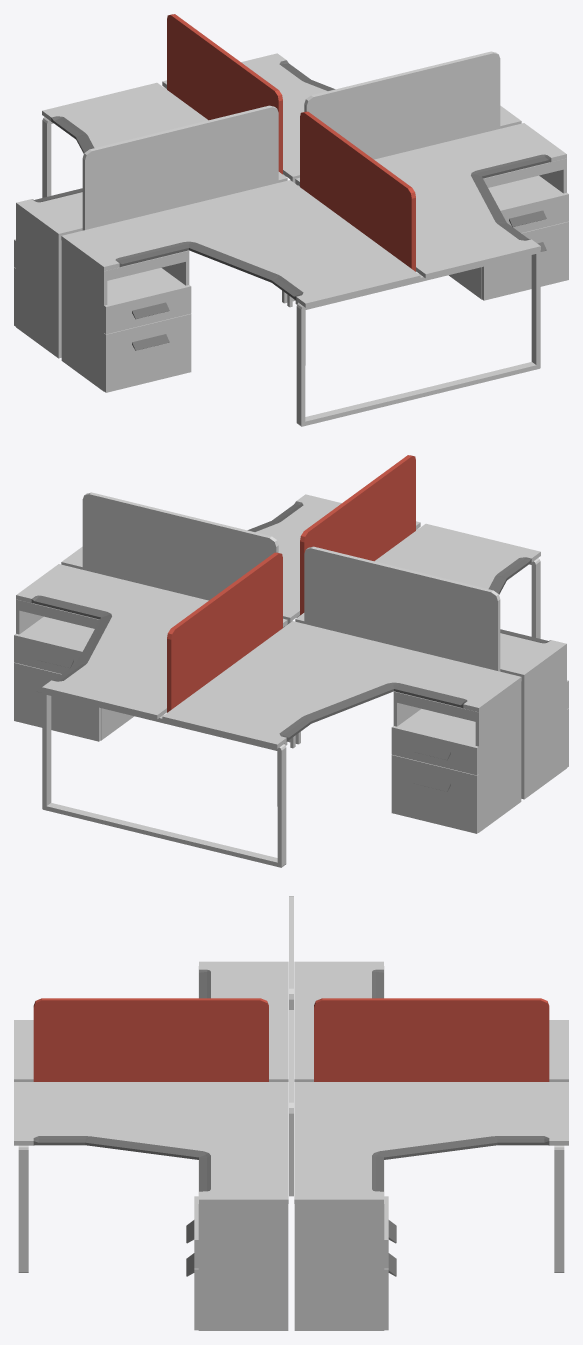
File: 414_quartet_table_visual.dae
The picture shows the model from 3 angles, top to bottom: view 1: azimuth 30°, elevation 25°; view 2: azimuth 150°, elevation 25°; view 3: azimuth 270°, elevation 25°; orthographic projection. The views are drawn at different scales.
Parts seen in each view (by area): view 1: Cube_001, Cube_002; view 2: Cube_001, Cube_002; view 3: Cube_001, Cube_002.
Part boxes in pixels (x1=…): Cube_001: x1=14, y1=14, x2=568, y2=426; Cube_002: x1=82, y1=51, x2=500, y2=230; Cube_001: x1=14, y1=455, x2=568, y2=867; Cube_002: x1=82, y1=492, x2=500, y2=671; Cube_001: x1=14, y1=961, x2=568, y2=1330; Cube_002: x1=289, y1=896, x2=293, y2=1196.
Size of the model in its own units: 2.83 by 2.79 by 1.18.
